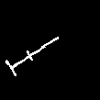double_crochet: (6, 37, 58, 75)
